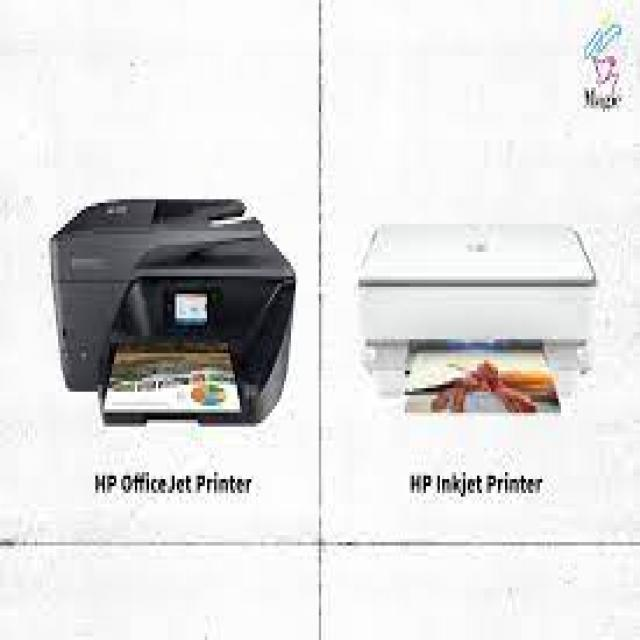printer: (38, 178, 309, 461), (338, 190, 612, 449)
